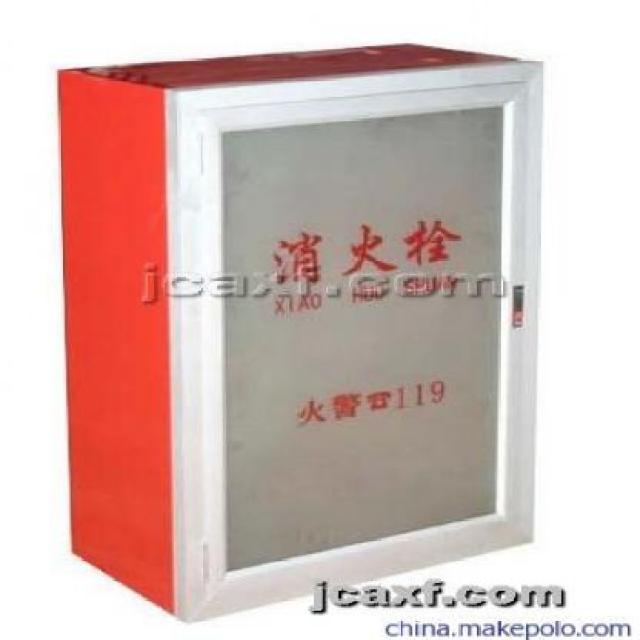firehydrant: (52, 35, 548, 627)
